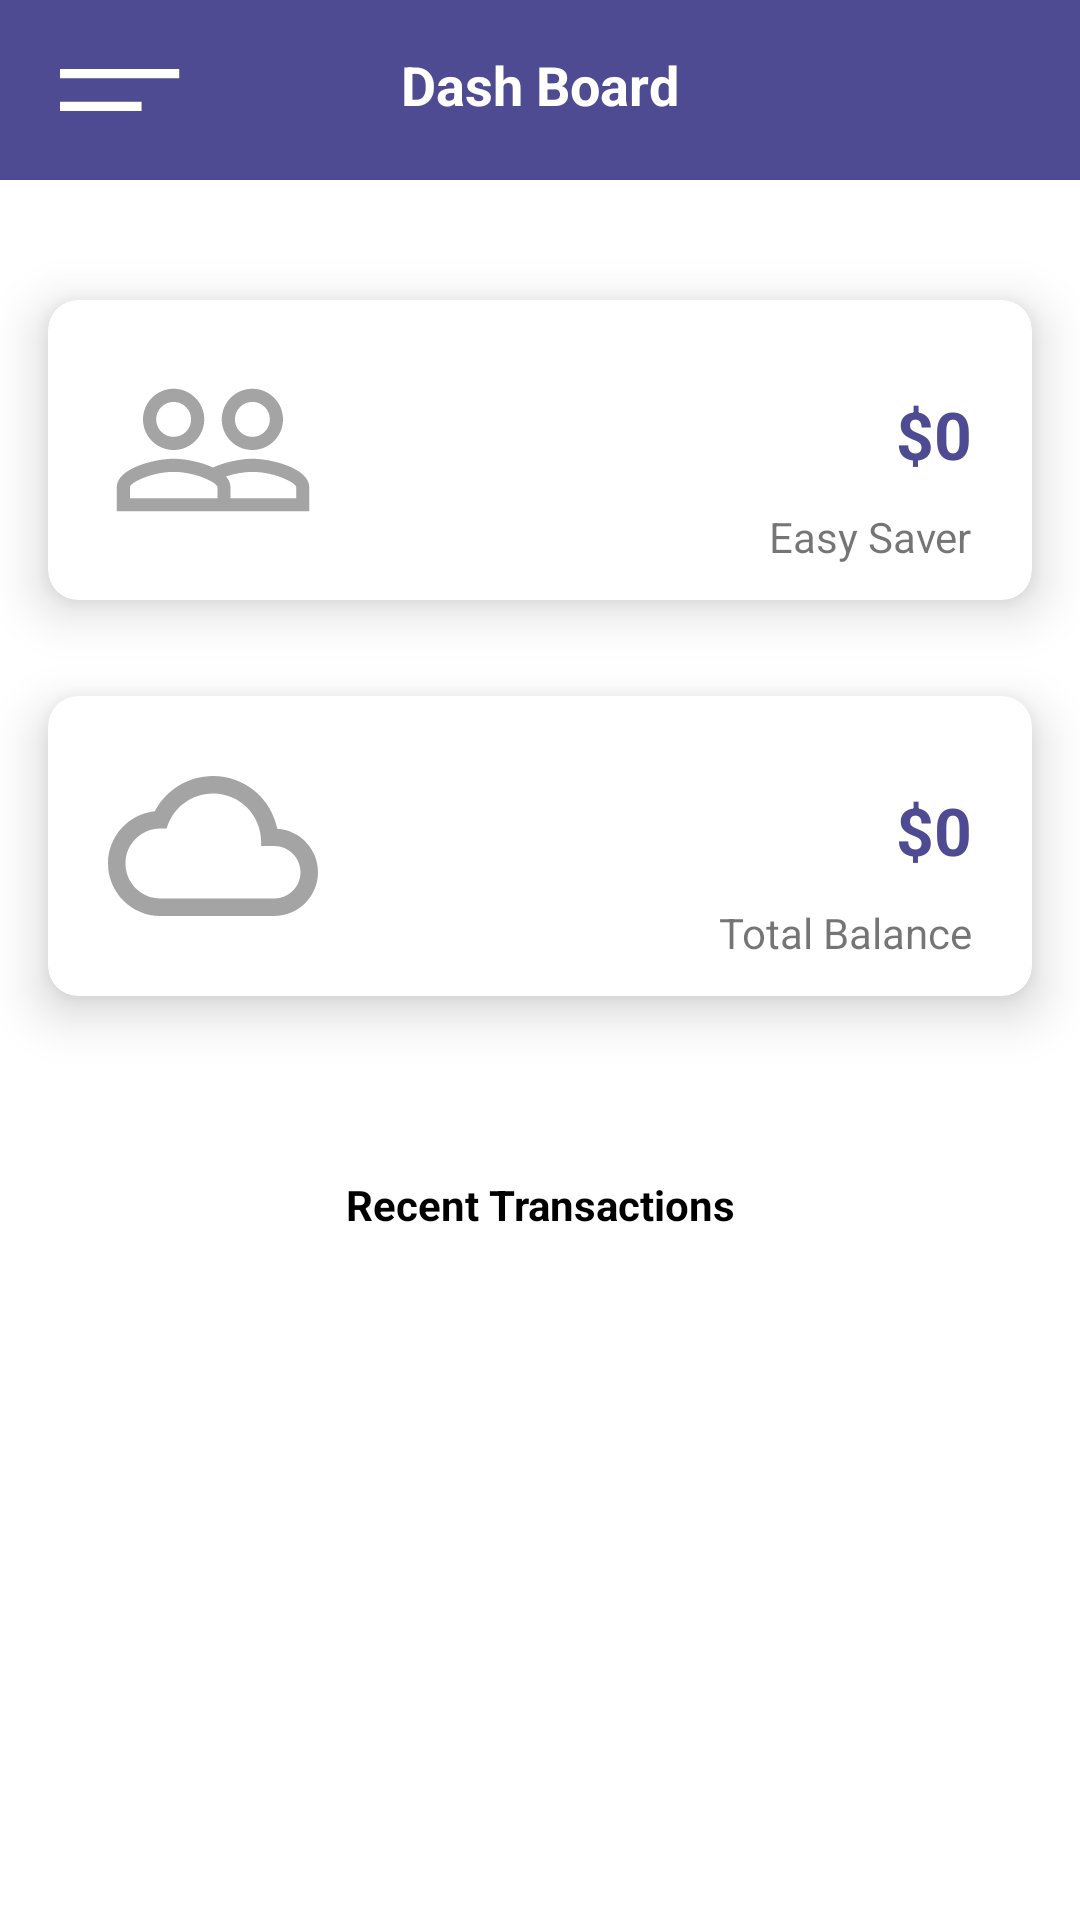

Screen size 1080 x 1920. Icon name, then its box in pixels as bbox=[x1, y1, x2, y2]:
cloud queue: bbox=[108, 776, 318, 916]
people: bbox=[117, 389, 309, 511]
